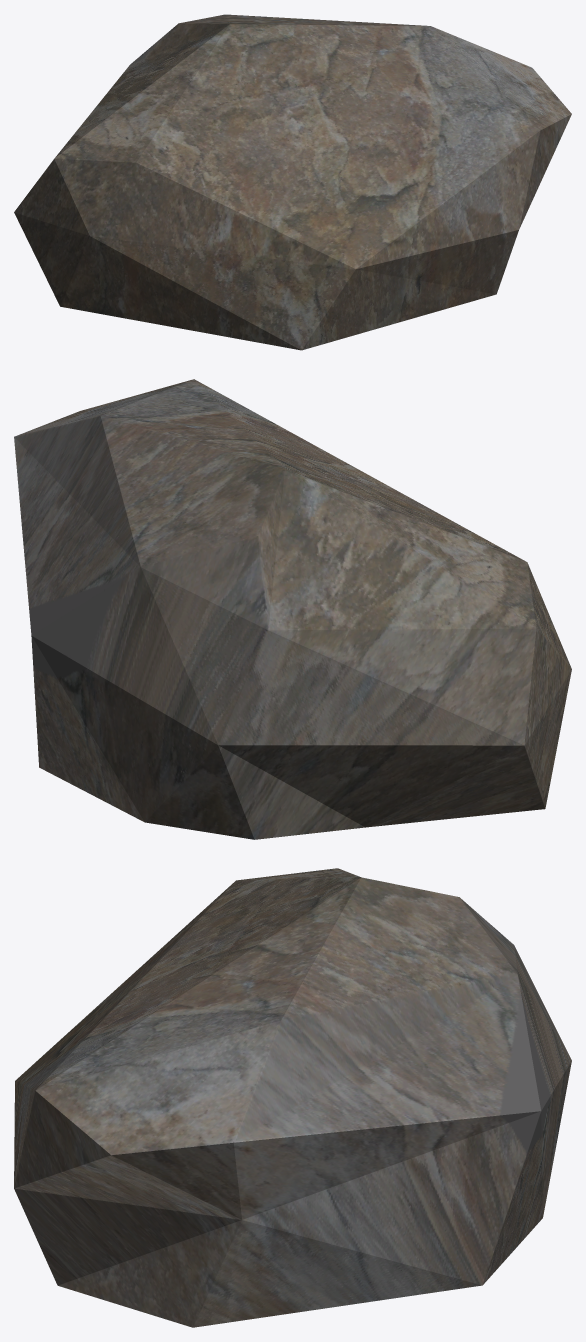
Rendered from Pedrolo3.fbx.
3 renders of one model, top to bottom at view 1: azimuth 30°, elevation 25°; view 2: azimuth 150°, elevation 25°; view 3: azimuth 270°, elevation 25°, orthographic. The views are drawn at different scales.
Parts seen in each view (by area): view 1: root; view 2: root; view 3: root.
Part boxes in pixels (x1,y1,x2,y2): root: [14, 14, 571, 350]; root: [14, 379, 571, 839]; root: [14, 868, 571, 1327].
Bounding box in the file's own units: 0.6624 × 0.3747 × 0.519.
1 material, 1 textured.
